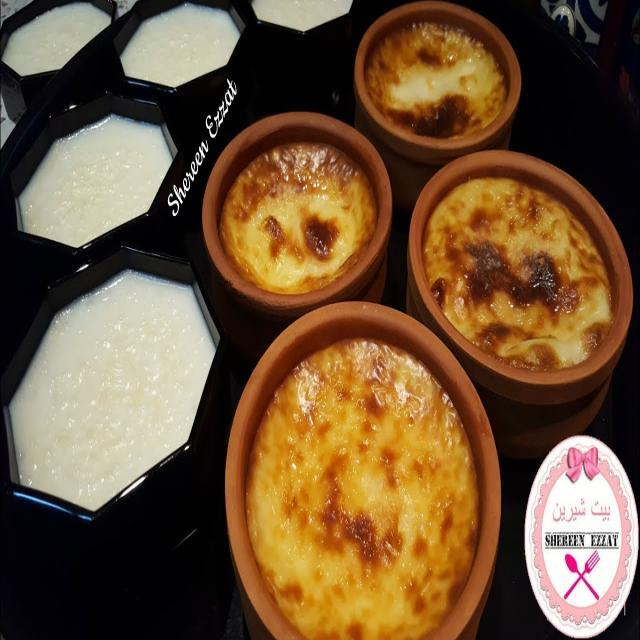roz blabn: (7, 248, 223, 592), (7, 97, 181, 251), (115, 0, 249, 104)
